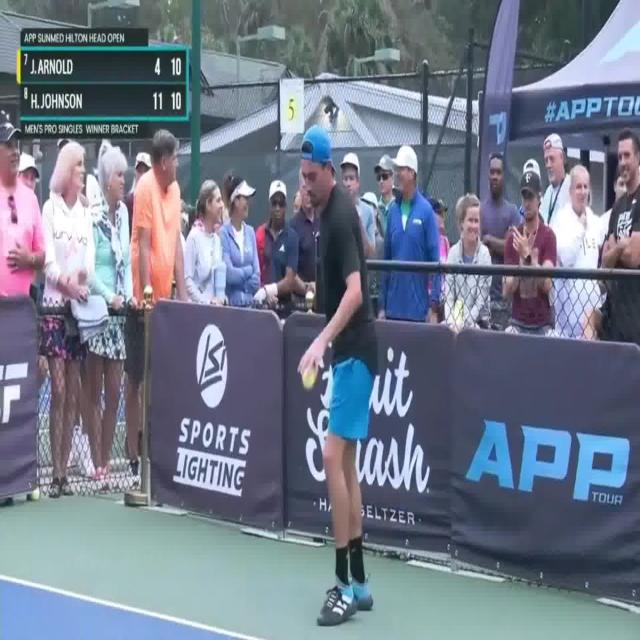ball: (303, 368, 314, 389)
